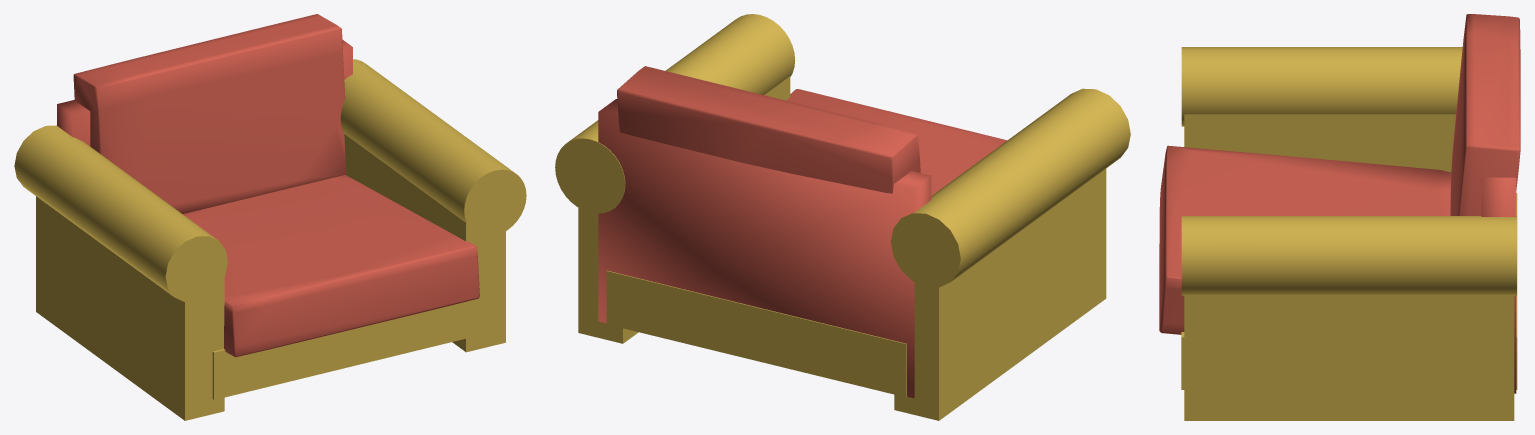
The model's file is silloncito.fbx.
3 views of the same model, side by side, from view 1: azimuth 30°, elevation 25°; view 2: azimuth 150°, elevation 25°; view 3: azimuth 270°, elevation 25° (orthographic). The views are drawn at different scales.
Parts seen in each view (by area): view 1: rugleuning_links, kussen_links, Cube_3_1.001, Cylinder_2, Cylinder_2_1, Cube_1, Cube_3_1, achterschot; view 2: achterschot, Cube_3_1.001, Cylinder_2, rugleuning_links, Cube_1, Cylinder_2_1, kussen_links, Cube_3_1; view 3: Cube_3_1, Cylinder_2_1, kussen_links, Cylinder_2, Cube_3_1.001, rugleuning_links, achterschot, Cube_1.
Part boxes in pixels (<box>): rugleuning_links: <box>73,14,346,213</box>; kussen_links: <box>183,175,479,357</box>; Cube_3_1.001: <box>36,196,224,420</box>; Cylinder_2: <box>14,125,227,302</box>; Cylinder_2_1: <box>340,59,526,236</box>; Cube_1: <box>212,286,480,399</box>; Cube_3_1: <box>344,134,505,352</box>; achterschot: <box>57,39,352,146</box>; achterschot: <box>598,99,931,398</box>; Cube_3_1.001: <box>894,168,1106,420</box>; Cylinder_2: <box>891,88,1130,287</box>; rugleuning_links: <box>617,66,920,193</box>; Cube_1: <box>606,270,906,397</box>; Cylinder_2_1: <box>555,14,795,213</box>; kussen_links: <box>786,89,1006,195</box>; Cube_3_1: <box>578,76,790,343</box>; Cube_3_1: <box>1184,295,1514,420</box>; Cylinder_2_1: <box>1181,216,1516,295</box>; kussen_links: <box>1159,145,1451,334</box>; Cylinder_2: <box>1181,47,1462,126</box>; Cube_3_1.001: <box>1184,114,1455,172</box>; rugleuning_links: <box>1450,14,1520,215</box>; achterschot: <box>1481,177,1516,393</box>; Cube_1: <box>1181,193,1517,389</box>.
Size of the model in its own units: 316 by 197 by 247.
